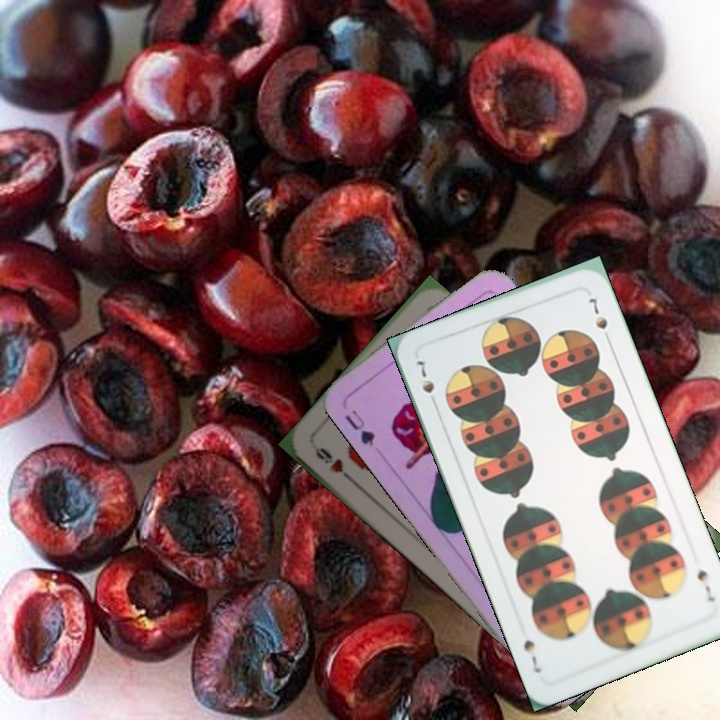GU: (340, 405, 378, 449)
H9: (309, 441, 358, 486)
S7: (411, 353, 440, 411), (693, 566, 717, 605)
